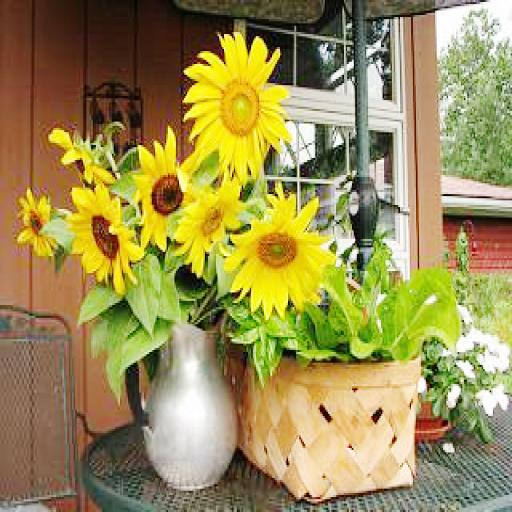sunflower: (186, 23, 290, 175), (229, 188, 325, 320), (68, 184, 142, 292), (133, 128, 197, 247), (18, 186, 56, 262)
